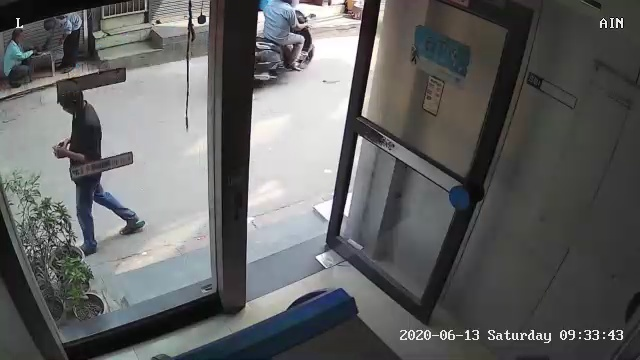open: (188, 4, 544, 330)
